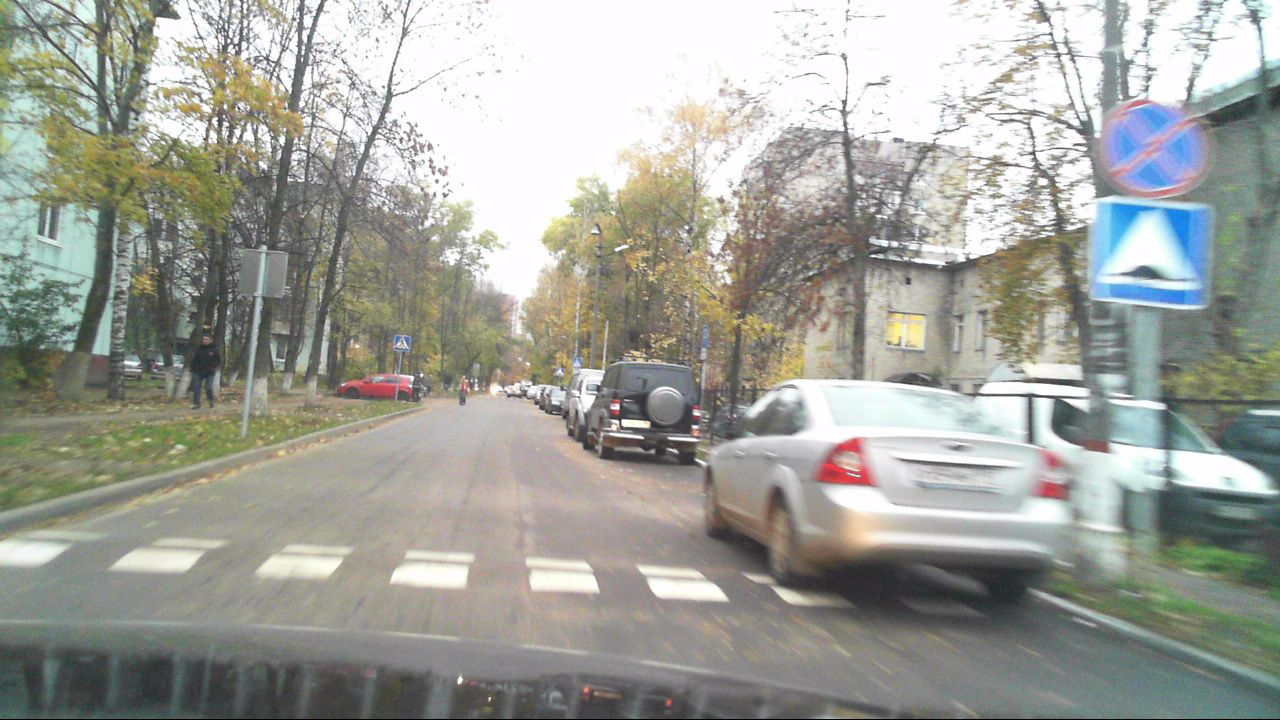No Parking: (1098, 99, 1200, 198)
